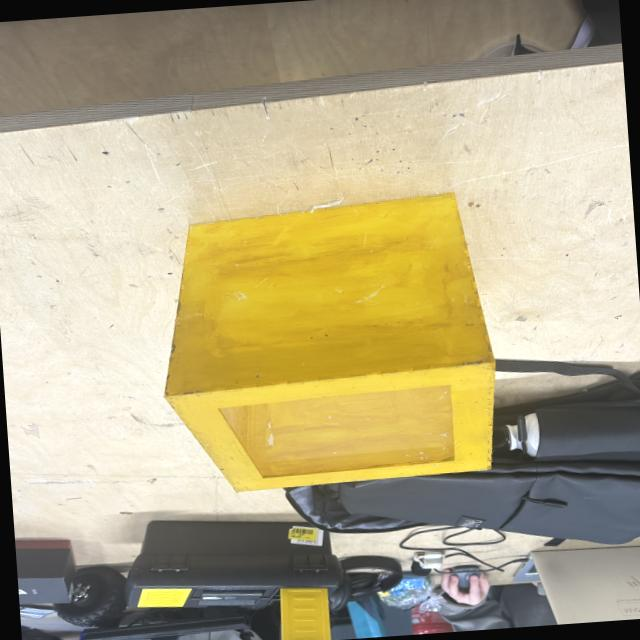yellow_bin: (150, 187, 504, 498)
